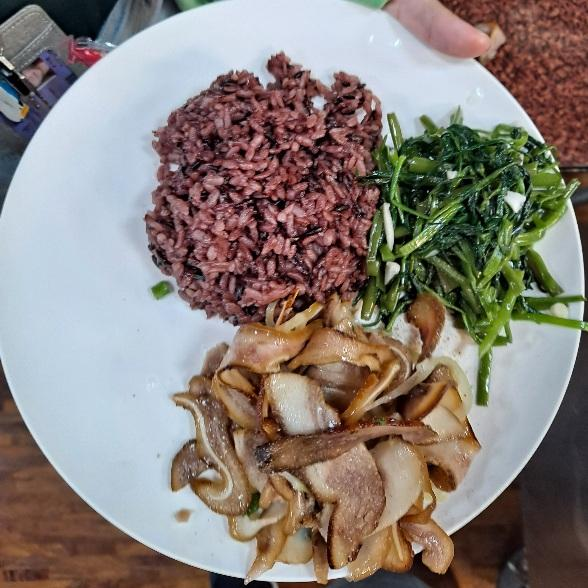big fried chicken leg: (3, 9, 586, 582)
braised fish: (144, 65, 393, 319)
braised fish fillet: (373, 110, 563, 332)
braised pork: (189, 316, 470, 564)
